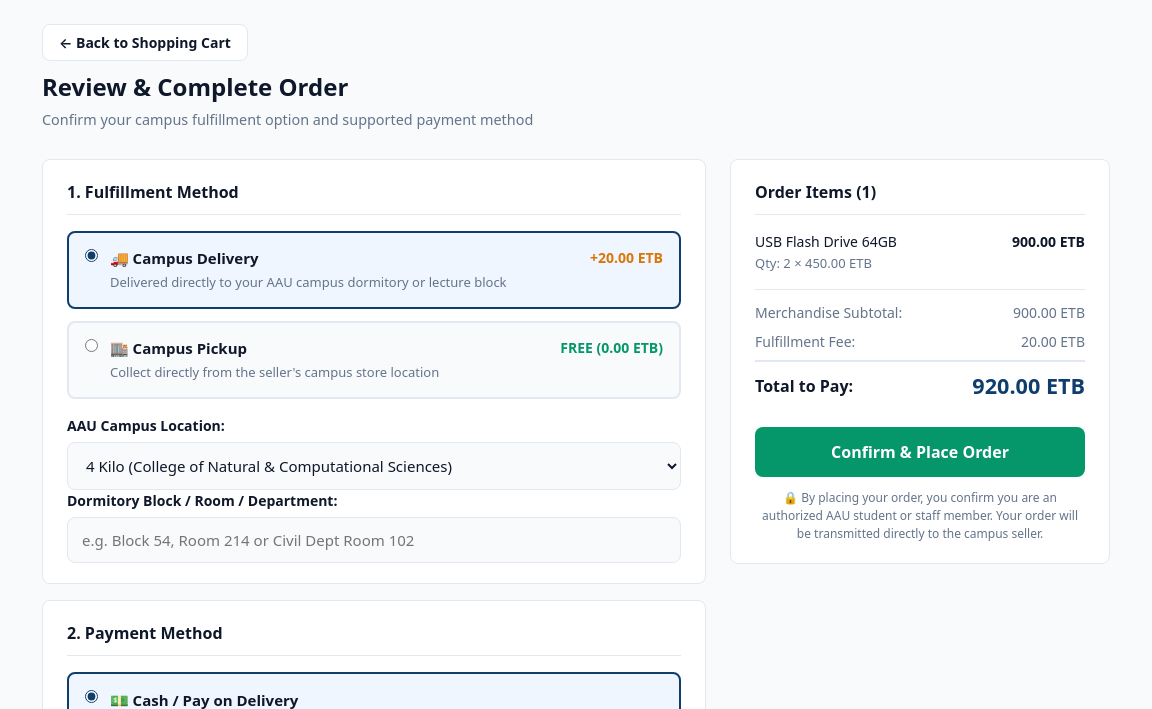
Test case: CheckoutPage Component › adjusts total when switching to free campus pickup
Click the radio button labelled "Campus Pickup": (92, 346) [85,339,98,352]
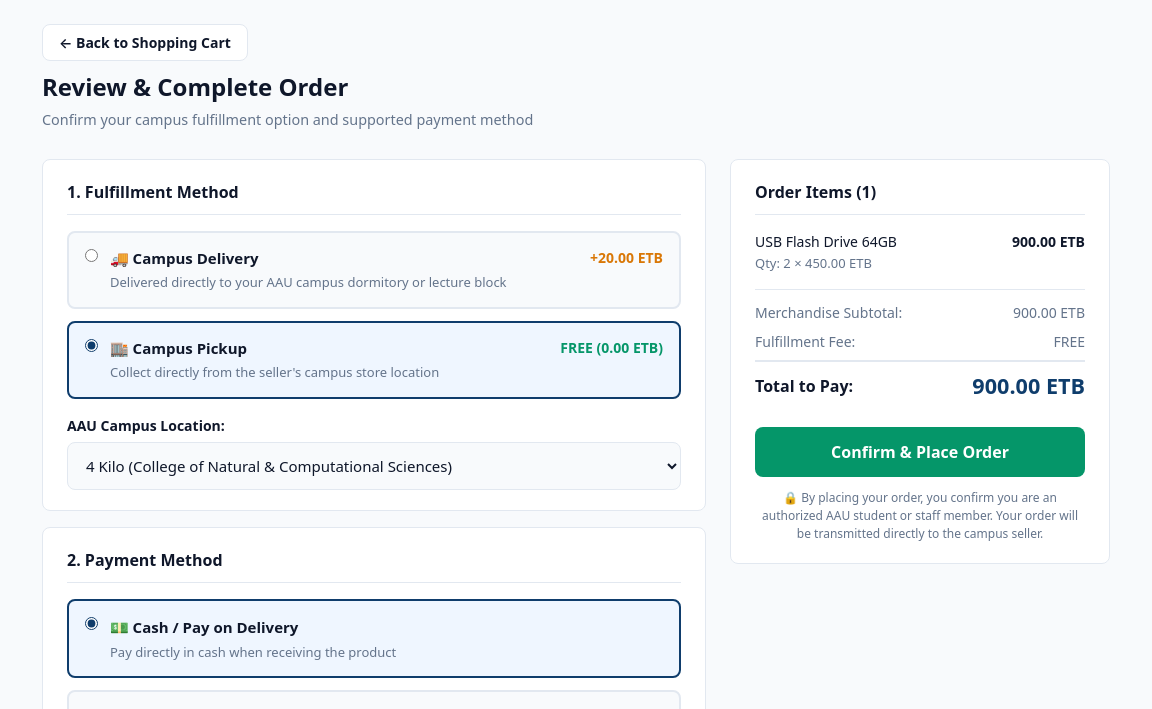
Expected: the text with test id "checkout-grand-total" reads "900.00 ETB", [972,370,1085,402]
